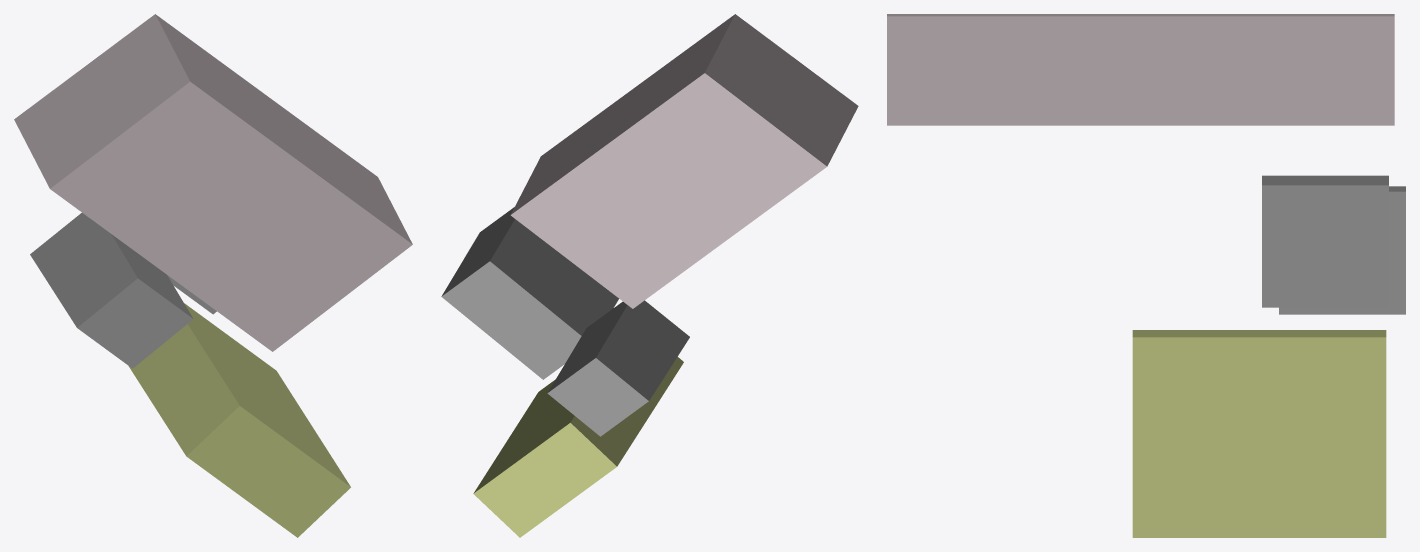
The picture shows the model from 3 angles, left to right: view 1: azimuth 30°, elevation 25°; view 2: azimuth 150°, elevation 25°; view 3: azimuth 270°, elevation 25°; orthographic projection. The views are drawn at different scales.
Parts seen in each view (by area): view 1: 0_1_1_3_2_2_0_2_3_3_2; view 2: 0_1_1_3_2_2_0_2_3_3_2; view 3: 0_1_1_3_2_2_0_2_3_3_2.
Part boxes in pixels (left/top/right/bottom): 0_1_1_3_2_2_0_2_3_3_2: left=14, top=14, right=412, bottom=537; 0_1_1_3_2_2_0_2_3_3_2: left=441, top=14, right=858, bottom=537; 0_1_1_3_2_2_0_2_3_3_2: left=887, top=14, right=1405, bottom=537.
Bounding box in the file's own units: 8.02 × 13.27 × 12.27.
